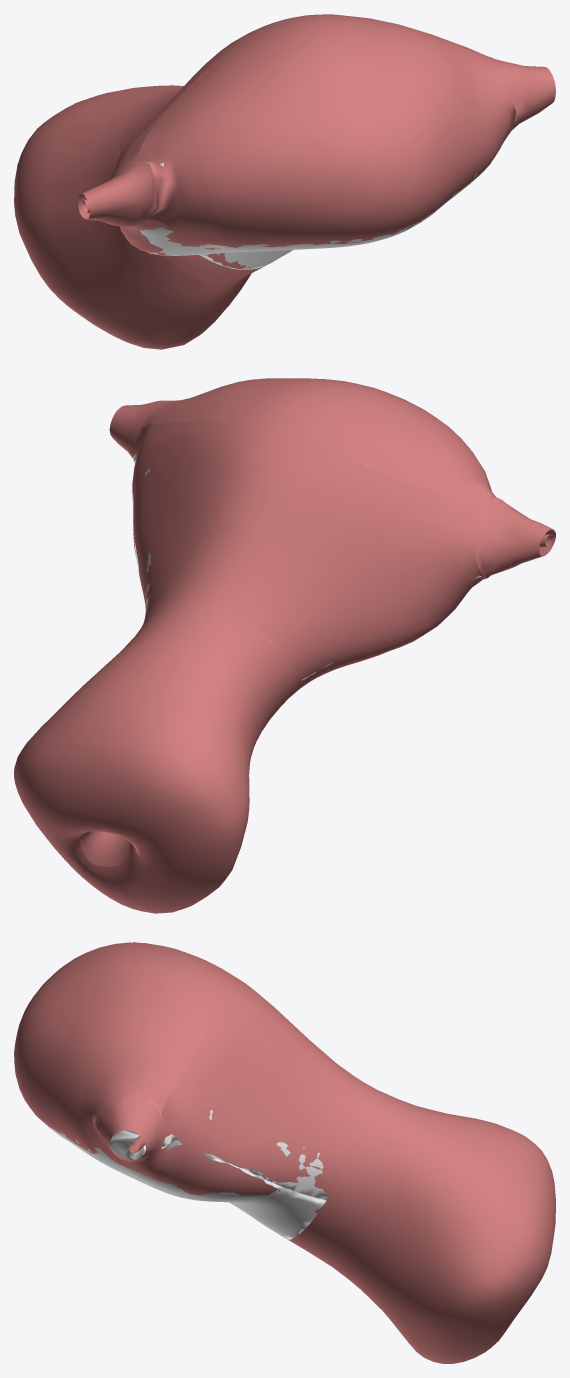
Rendered from vh_f_uterus-40.fbx.
3 renders of one model, top to bottom at view 1: azimuth 30°, elevation 25°; view 2: azimuth 150°, elevation 25°; view 3: azimuth 270°, elevation 25°, orthographic. The views are drawn at different scales.
Visible parts, largest first — view 1: VH_F_fundus_of_uterus, VH_F_cervix, VH_F_cornua, VH_F_posterior_wall_of_uterus, VH_F_lower_uterine_segment, VH_F_body_of_uterus; view 2: VH_F_body_of_uterus, VH_F_cervix, VH_F_fundus_of_uterus, VH_F_lower_uterine_segment, VH_F_cornua, VH_F_external_cervical_os; view 3: VH_F_cervix, VH_F_body_of_uterus, VH_F_fundus_of_uterus, VH_F_lower_uterine_segment, VH_F_posterior_wall_of_uterus, VH_F_cornua, VH_F_anterior_wall_of_uterus.
Part boxes in pixels (x1,y1,x2,y2): VH_F_fundus_of_uterus: [132, 14, 516, 249]; VH_F_cervix: [14, 85, 251, 349]; VH_F_cornua: [78, 59, 555, 227]; VH_F_posterior_wall_of_uterus: [130, 146, 501, 269]; VH_F_lower_uterine_segment: [119, 87, 264, 285]; VH_F_body_of_uterus: [114, 18, 511, 268]; VH_F_body_of_uterus: [132, 420, 486, 695]; VH_F_cervix: [14, 642, 260, 913]; VH_F_fundus_of_uterus: [142, 378, 495, 513]; VH_F_lower_uterine_segment: [124, 600, 297, 738]; VH_F_cornua: [109, 400, 555, 577]; VH_F_external_cervical_os: [79, 831, 136, 866]; VH_F_cervix: [333, 1106, 555, 1363]; VH_F_body_of_uterus: [115, 962, 366, 1212]; VH_F_fundus_of_uterus: [14, 942, 217, 1163]; VH_F_lower_uterine_segment: [289, 1083, 419, 1267]; VH_F_posterior_wall_of_uterus: [42, 1118, 326, 1239]; VH_F_cornua: [95, 942, 163, 1164]; VH_F_anterior_wall_of_uterus: [151, 1100, 328, 1200].
Size of the model in its own units: 5.25 by 4.7 by 5.87.
